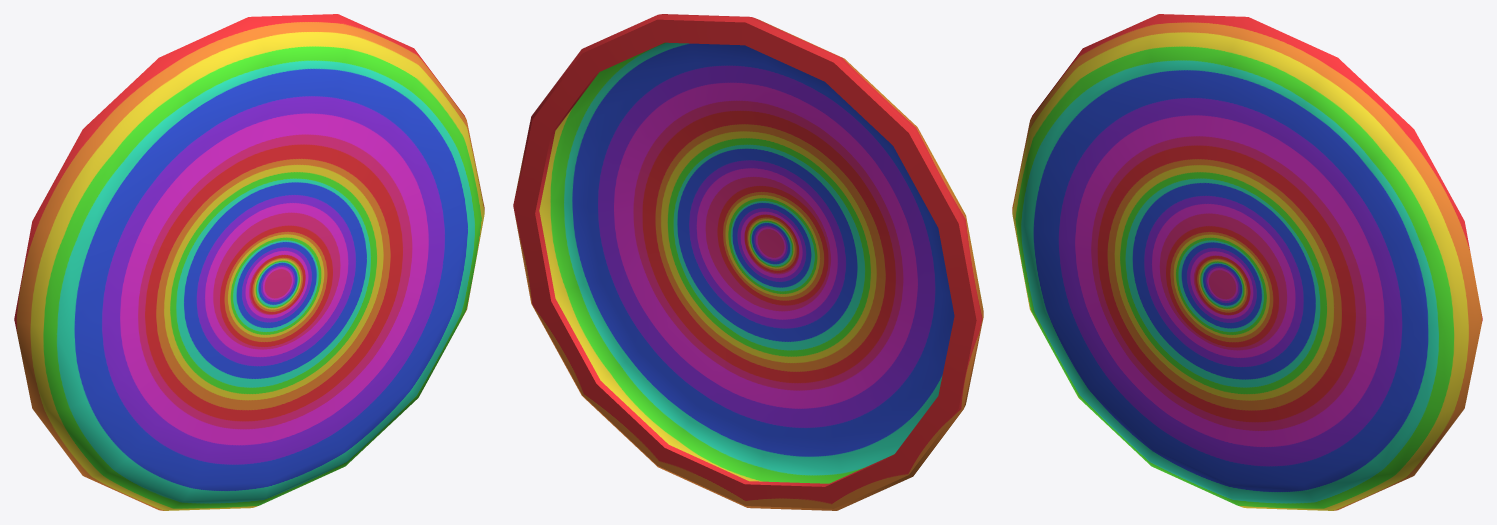
The model's file is HypnoDisk.fbx.
3 views of the same model, side by side, from view 1: azimuth 30°, elevation 25°; view 2: azimuth 150°, elevation 25°; view 3: azimuth 330°, elevation 25° (orthographic).
Parts seen in each view (by area): view 1: HypnoDisk; view 2: HypnoDisk; view 3: HypnoDisk.
Boxes of the visible parts, x1,y1,x2,y2 form: HypnoDisk: (14,14,484,510); HypnoDisk: (513,14,983,510); HypnoDisk: (1012,14,1482,510).
Size of the model in its own units: 831 by 831 by 94.04.
1 material, 1 textured.
